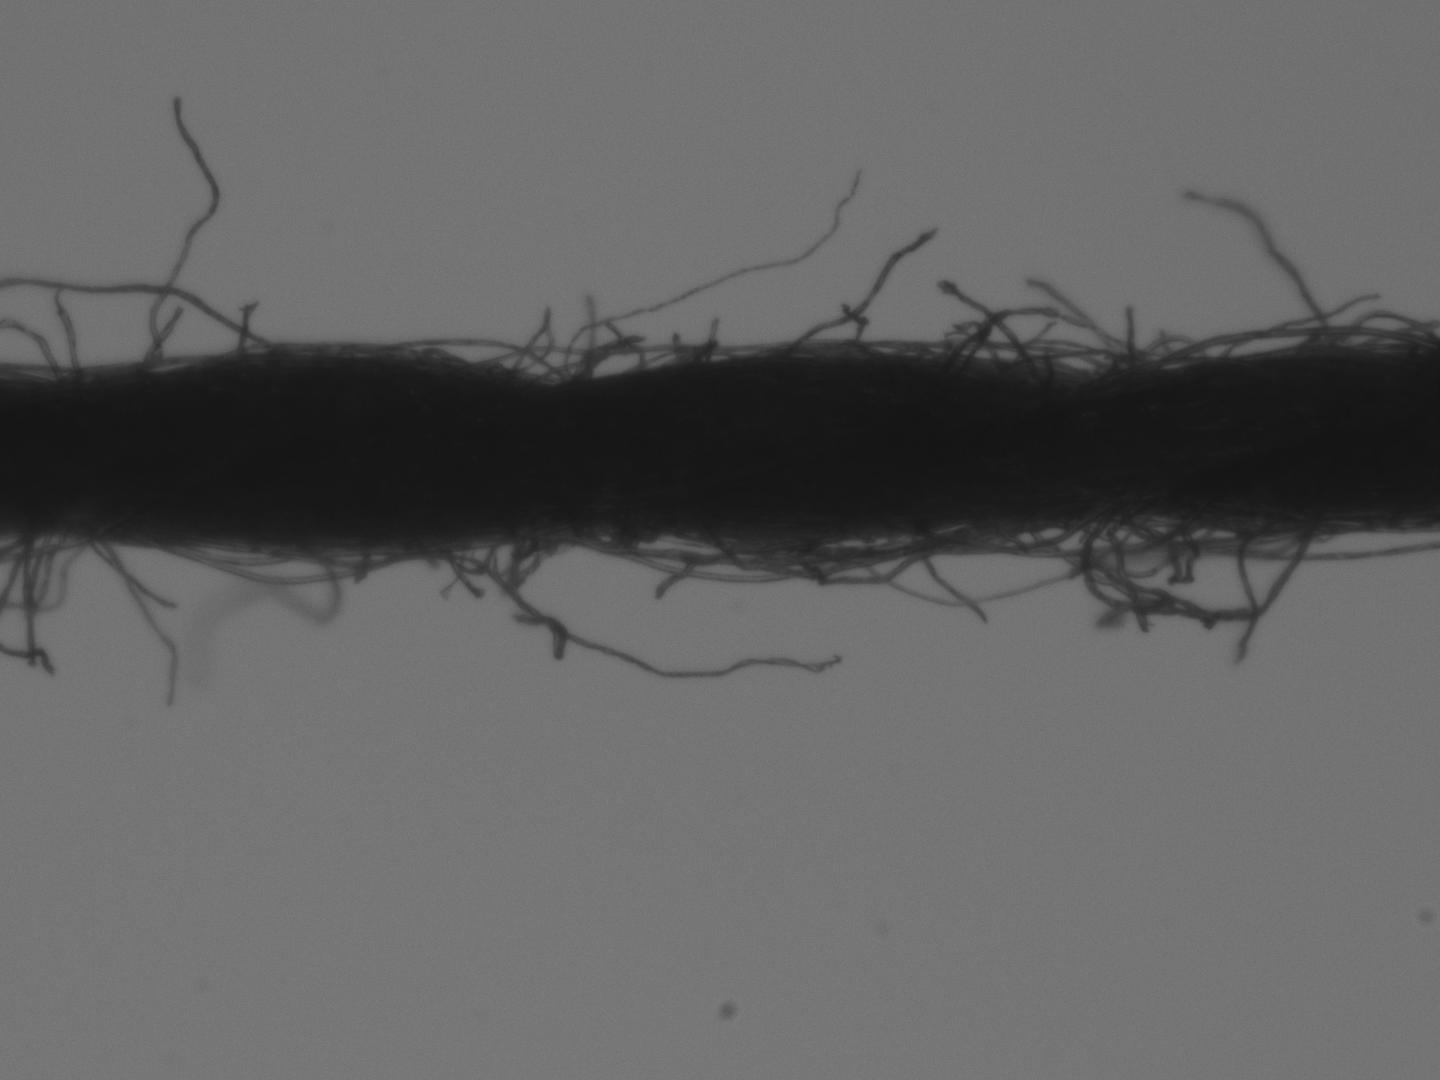loop_fiber: (865, 505, 1147, 601), (1083, 511, 1311, 623), (781, 514, 1032, 589), (957, 302, 1150, 379), (149, 537, 415, 582), (708, 525, 933, 574), (484, 345, 769, 380), (906, 507, 1098, 552), (870, 335, 1109, 371), (1121, 512, 1311, 557), (399, 334, 569, 381), (1168, 328, 1417, 360), (611, 529, 752, 566), (1110, 500, 1201, 552), (295, 542, 429, 573), (1009, 349, 1134, 380), (158, 535, 294, 562), (439, 533, 508, 576), (579, 339, 645, 383), (566, 523, 645, 554), (638, 345, 726, 371), (1144, 332, 1204, 365)
protruding_fiber: (435, 549, 840, 689), (1191, 193, 1327, 343), (147, 96, 220, 361), (783, 228, 934, 353), (101, 541, 179, 704), (941, 282, 1019, 360), (927, 525, 988, 625), (1237, 530, 1261, 663), (237, 299, 252, 351)
